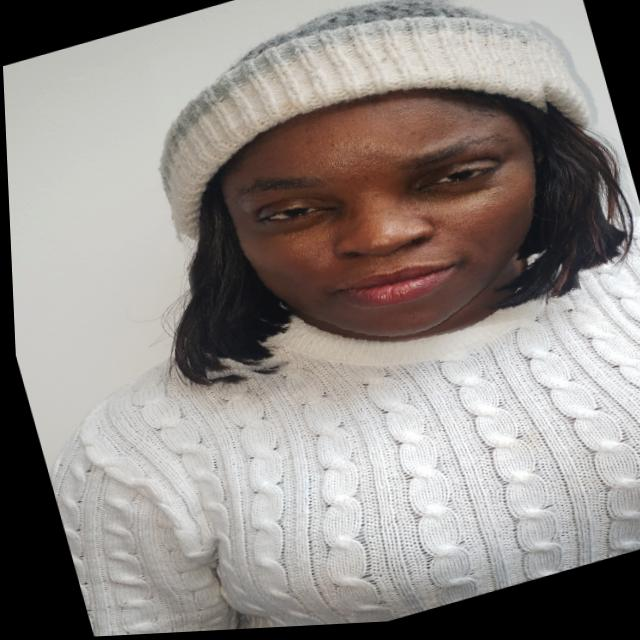sad: (124, 0, 602, 406)
